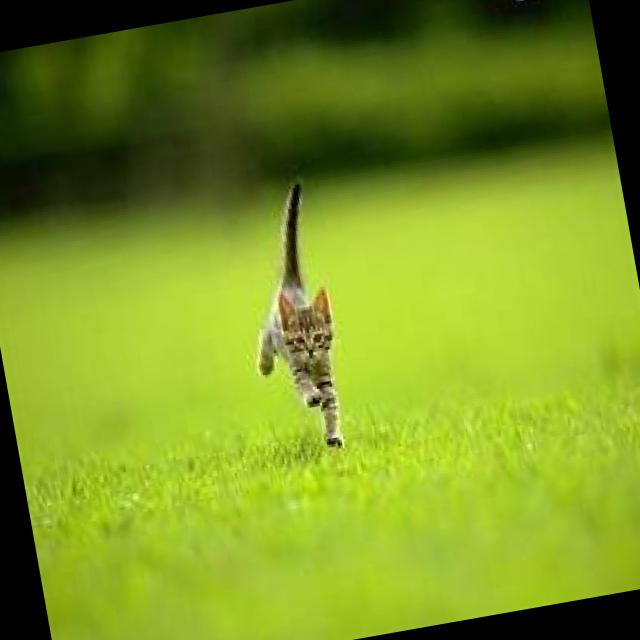animal: (223, 177, 355, 460)
